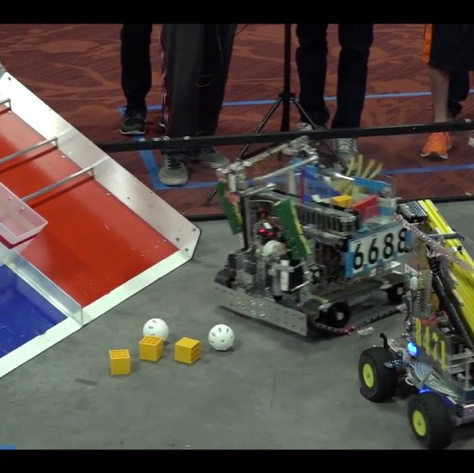robot: (208, 132, 426, 338), (358, 198, 474, 449)
